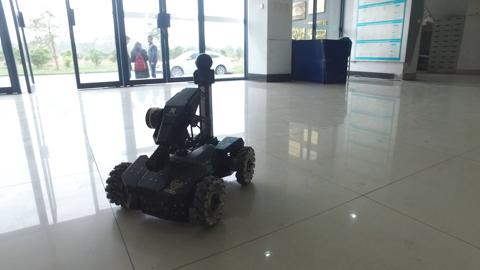chariot: (103, 51, 270, 231)
